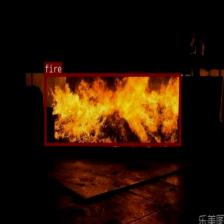fire: (44, 73, 181, 145)
